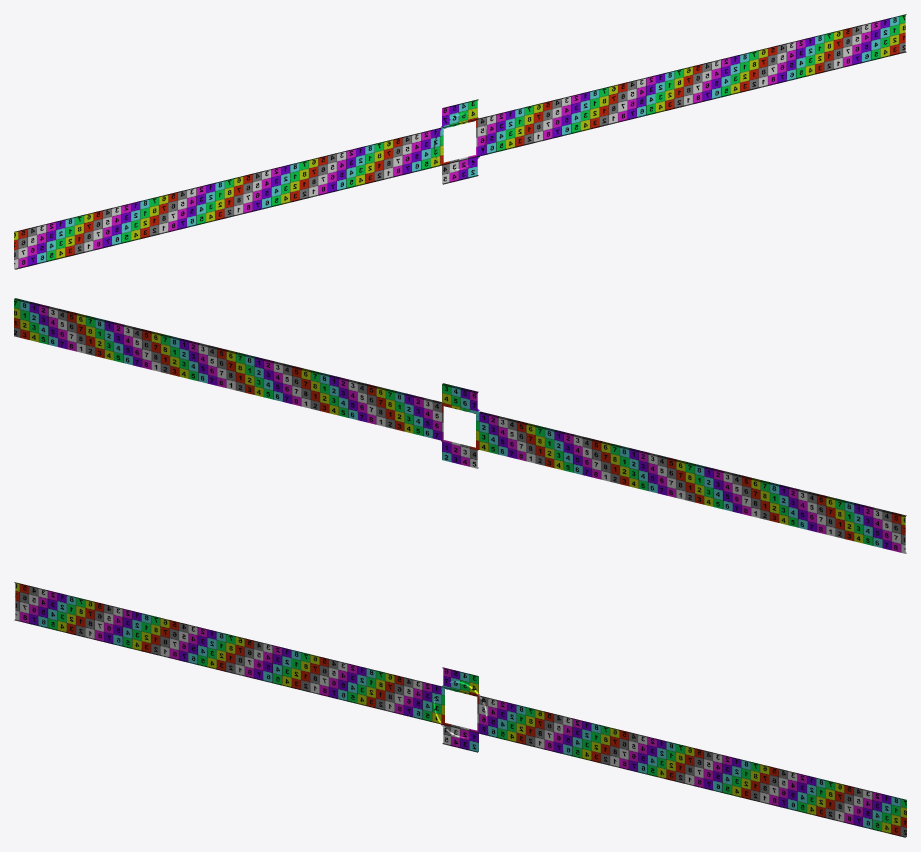
The model's file is roundTest.glb.
The picture shows the model from 3 angles, top to bottom: view 1: azimuth 30°, elevation 25°; view 2: azimuth 150°, elevation 25°; view 3: azimuth 330°, elevation 25°; orthographic projection.
Visible parts, largest first — view 1: panelWindowRound290OutsideMaxWidth, panelWindowRound290OutsideMaxHeight, panelWindowRound290Outside; view 2: panelWindowRound290OutsideMaxWidth, panelWindowRound290OutsideMaxHeight, panelWindowRound290Outside; view 3: panelWindowRound290OutsideMaxWidth, panelWindowRound290OutsideMaxHeight, panelWindowRound290Outside.
Part boxes in pixels (x1,y1,x2,y2): panelWindowRound290OutsideMaxWidth: [14, 14, 906, 269]; panelWindowRound290OutsideMaxHeight: [442, 99, 478, 184]; panelWindowRound290Outside: [433, 113, 487, 170]; panelWindowRound290OutsideMaxWidth: [14, 298, 906, 553]; panelWindowRound290OutsideMaxHeight: [442, 383, 478, 468]; panelWindowRound290Outside: [434, 399, 485, 454]; panelWindowRound290OutsideMaxWidth: [14, 582, 906, 837]; panelWindowRound290OutsideMaxHeight: [442, 667, 478, 752]; panelWindowRound290Outside: [433, 681, 487, 738].
Size of the model in its own units: 7.5 by 0.61 by 0.0199.
Materials: 1 (1 with a texture image).
